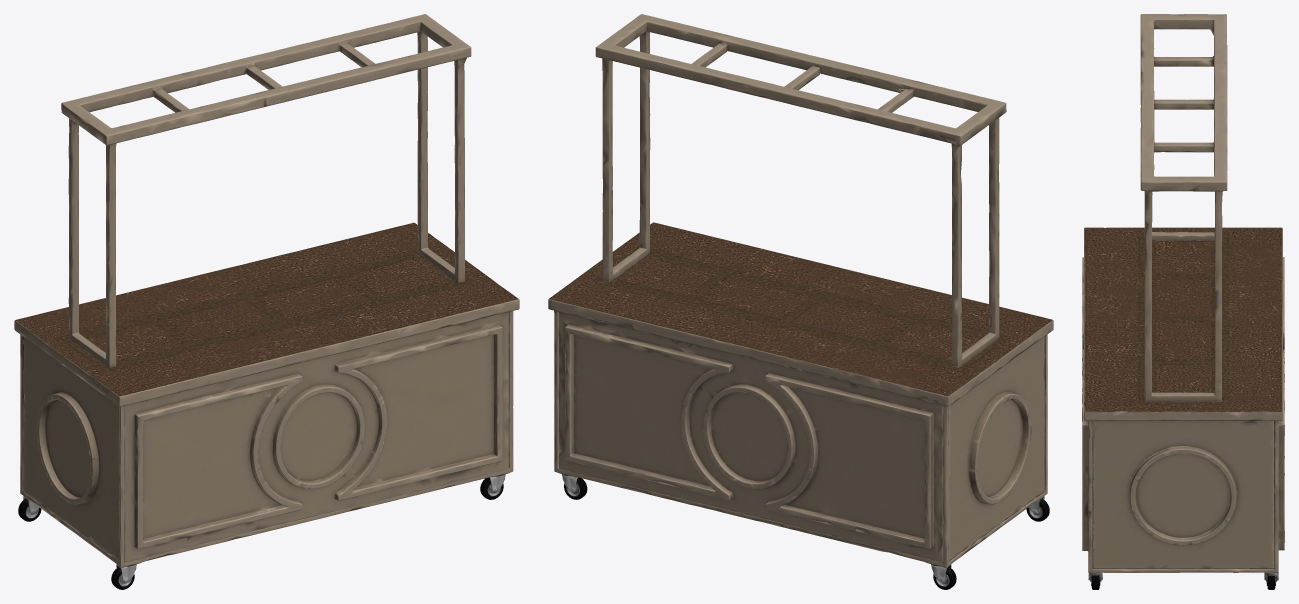
Rendered from buffet-resort.glb.
3 views of the same model, side by side, from view 1: azimuth 30°, elevation 25°; view 2: azimuth 150°, elevation 25°; view 3: azimuth 270°, elevation 25° (orthographic). The views are drawn at different scales.
Visible parts, largest first — view 1: tripo_node_255ad792-b811-437c-b4db-223895f70cf3; view 2: tripo_node_255ad792-b811-437c-b4db-223895f70cf3; view 3: tripo_node_255ad792-b811-437c-b4db-223895f70cf3.
Part boxes in pixels (x1=…): tripo_node_255ad792-b811-437c-b4db-223895f70cf3: x1=14, y1=14, x2=519, y2=589; tripo_node_255ad792-b811-437c-b4db-223895f70cf3: x1=548, y1=14, x2=1053, y2=589; tripo_node_255ad792-b811-437c-b4db-223895f70cf3: x1=1082, y1=14, x2=1284, y2=589.
Bounding box in the file's own units: 1.81 × 1.85 × 0.8313.
Materials: 1 (1 with a texture image).
